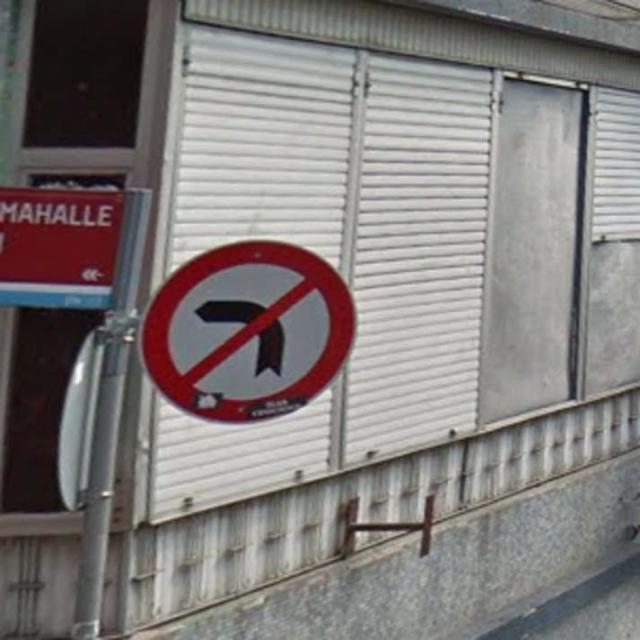soladonulmez: (156, 233, 354, 427)
